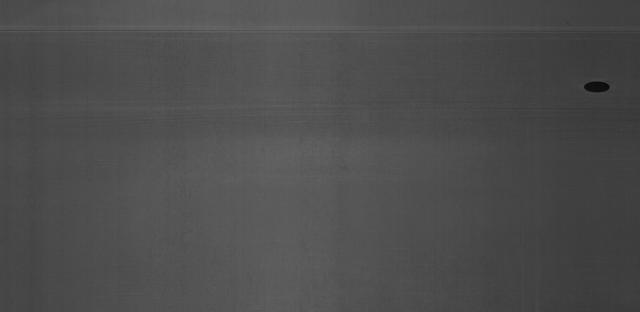punching_hole: (580, 76, 614, 98)
welding_line: (0, 16, 640, 45)
